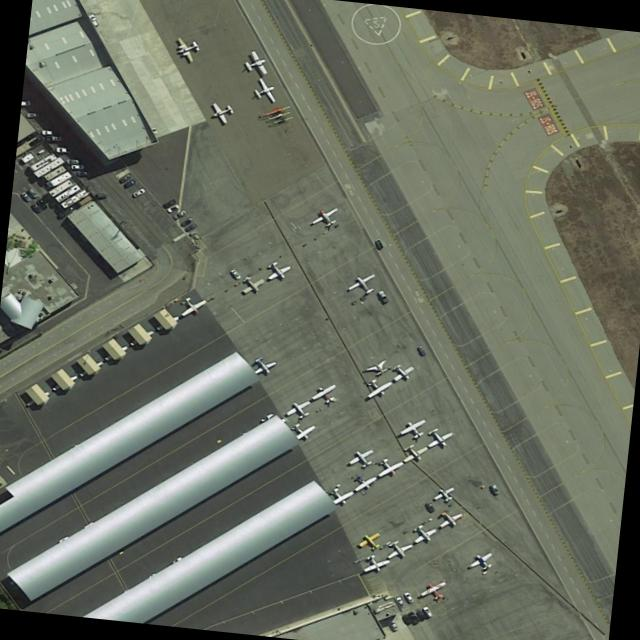large-vehicle: (33, 157, 65, 178), (61, 188, 92, 208), (54, 183, 83, 203), (30, 152, 59, 172), (47, 178, 75, 198), (48, 171, 73, 188), (43, 165, 68, 182), (114, 167, 132, 181)
plane: (344, 269, 383, 299), (420, 422, 458, 452), (359, 373, 398, 401), (322, 480, 358, 509), (174, 291, 211, 319), (284, 418, 322, 445), (370, 453, 407, 480), (307, 380, 344, 407), (240, 48, 272, 79), (248, 75, 281, 105), (308, 204, 344, 231), (406, 520, 441, 547), (345, 444, 380, 471), (381, 536, 417, 562), (396, 439, 432, 465), (173, 34, 204, 64), (235, 270, 269, 297), (261, 257, 295, 284), (357, 550, 393, 575), (465, 548, 499, 574), (417, 578, 452, 603), (208, 98, 239, 126), (246, 353, 280, 378), (283, 397, 317, 422), (397, 416, 431, 441), (433, 506, 466, 530), (386, 360, 418, 384), (349, 470, 380, 494), (355, 529, 386, 553), (430, 484, 459, 505), (364, 357, 392, 377)
small-vehicle: (377, 289, 390, 304), (132, 188, 148, 199), (161, 198, 178, 208), (167, 202, 182, 213), (173, 209, 188, 220), (21, 190, 34, 202), (425, 500, 436, 514), (122, 179, 137, 189), (417, 608, 429, 620), (490, 482, 502, 494), (410, 610, 421, 623), (27, 187, 40, 198), (403, 592, 416, 603), (229, 268, 242, 279), (184, 223, 198, 233), (423, 605, 434, 617), (395, 596, 406, 608), (416, 344, 427, 356), (31, 203, 44, 213), (180, 218, 194, 227), (374, 238, 384, 250), (119, 174, 132, 183), (56, 146, 72, 153), (47, 135, 63, 142), (389, 620, 399, 631), (96, 193, 110, 200), (67, 158, 81, 165), (76, 170, 92, 176), (25, 112, 41, 118), (71, 164, 87, 169), (41, 130, 56, 135)
